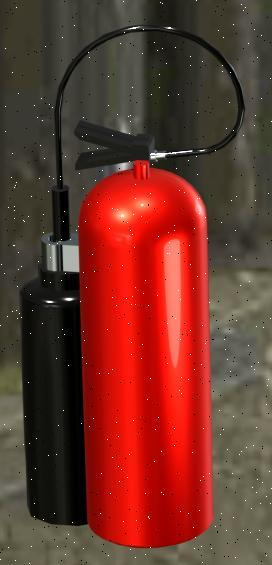Fire Extinguisher: (6, 11, 272, 560)
